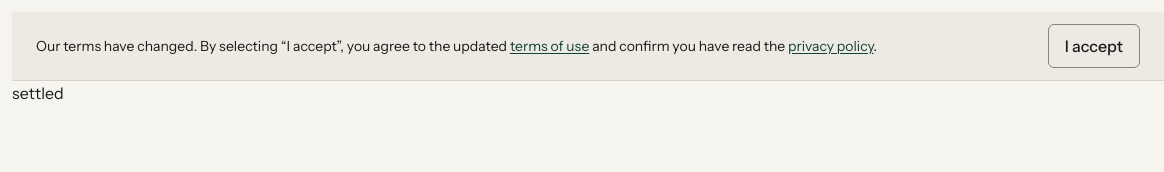
it: TermsBanner › records the acceptance with the CSRF header, then goes away
Click the button "I accept" at {"x": 1094, "y": 46}, box [1048,24,1140,68]
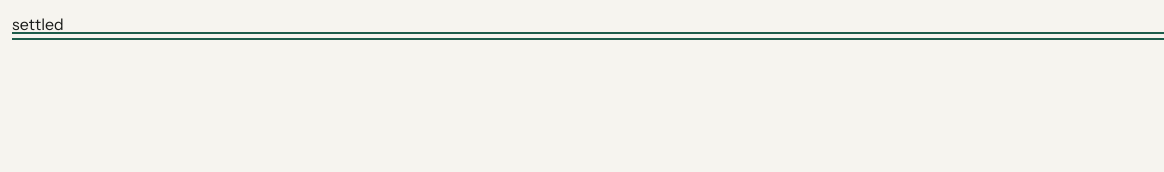
Now the element "updated terms" is gone
